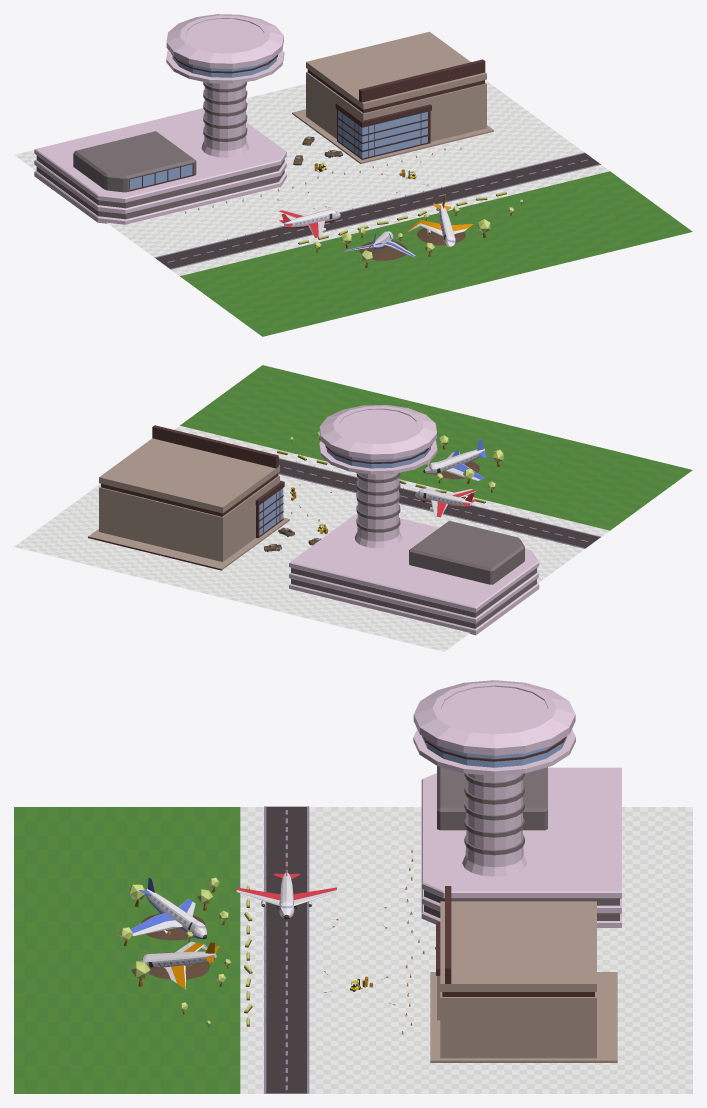
File: airport.fbx
3 views of the same model, one above another, from view 1: azimuth 30°, elevation 25°; view 2: azimuth 150°, elevation 25°; view 3: azimuth 270°, elevation 25° (orthographic). The views are drawn at different scales.
Visible parts, largest first — view 1: Grass.001, Building.001, Asphalt.001, Building2.001, Road, Plane, Plane.002, Plane.001; view 2: Building.001, Grass.001, Asphalt.001, Building2.001, Road, Plane.001, Plane; view 3: Asphalt.001, Grass.001, Building.001, Building2.001, Road, Plane.001, Plane.002, Plane.
Part boxes in pixels (left/top/right/bottom): Grass.001: left=180, top=171, right=692, bottom=336; Building.001: left=34, top=14, right=286, bottom=224; Asphalt.001: left=14, top=80, right=609, bottom=275; Building2.001: left=292, top=31, right=493, bottom=163; Road: left=154, top=152, right=600, bottom=269; Plane: left=278, top=209, right=341, bottom=238; Plane.002: left=407, top=195, right=473, bottom=246; Plane.001: left=343, top=231, right=415, bottom=257; Building.001: left=289, top=405, right=539, bottom=635; Grass.001: left=180, top=365, right=692, bottom=530; Asphalt.001: left=14, top=425, right=609, bottom=651; Building2.001: left=88, top=425, right=289, bottom=570; Road: left=278, top=458, right=600, bottom=548; Plane.001: left=423, top=439, right=486, bottom=480; Plane: left=414, top=488, right=477, bottom=517; Asphalt.001: left=240, top=807, right=692, bottom=1093; Grass.001: left=14, top=807, right=240, bottom=1093; Building.001: left=413, top=680, right=621, bottom=927; Building2.001: left=430, top=886, right=617, bottom=1062; Road: left=264, top=806, right=309, bottom=1093; Plane.001: left=131, top=877, right=206, bottom=939; Plane.002: left=139, top=941, right=219, bottom=989; Plane: left=236, top=858, right=336, bottom=919.
Bounding box in the file's own units: 245 × 77.03 × 242.
Materials: 4 (4 with a texture image).
